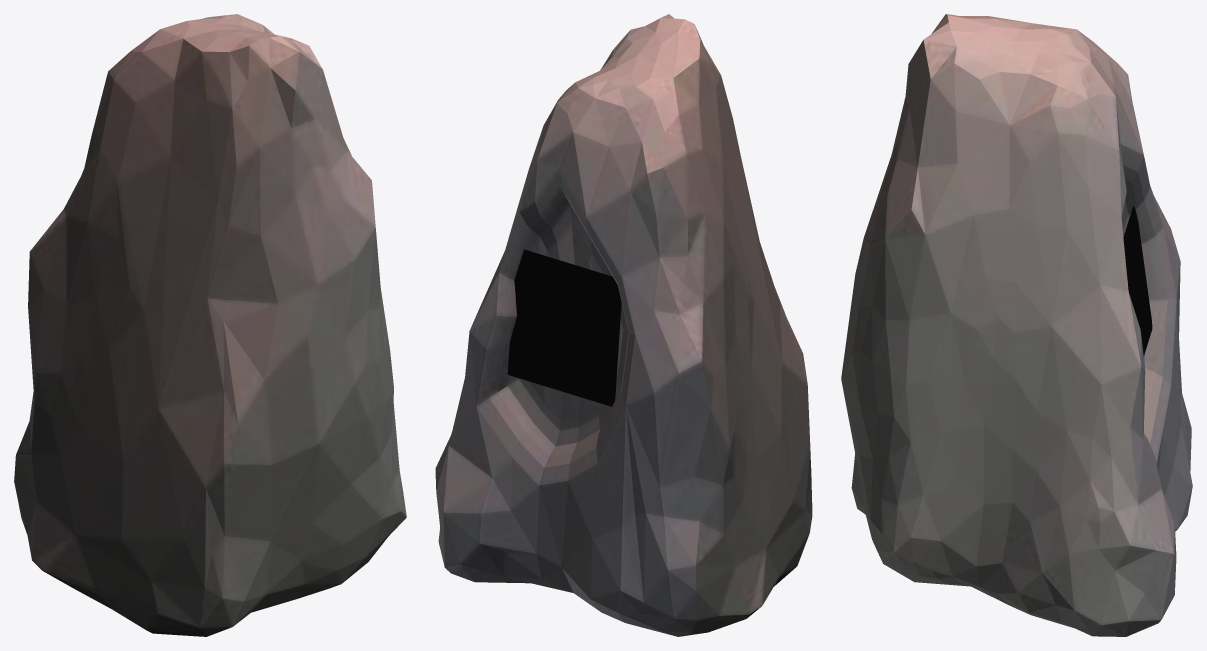
The model's file is roche_ (1).fbx.
3 views of the same model, side by side, from view 1: azimuth 30°, elevation 25°; view 2: azimuth 150°, elevation 25°; view 3: azimuth 270°, elevation 25° (orthographic). The views are drawn at different scales.
Parts seen in each view (by area): view 1: Cube; view 2: Cube, Plane; view 3: Cube, Plane.
Boxes of the visible parts, x1,y1,x2,y2 form: Cube: [14, 14, 406, 636]; Cube: [435, 14, 812, 636]; Plane: [507, 249, 621, 406]; Cube: [841, 14, 1192, 636]; Plane: [1123, 206, 1152, 356].
Size of the model in its own units: 245 by 413 by 235.
2 materials, 1 textured.
